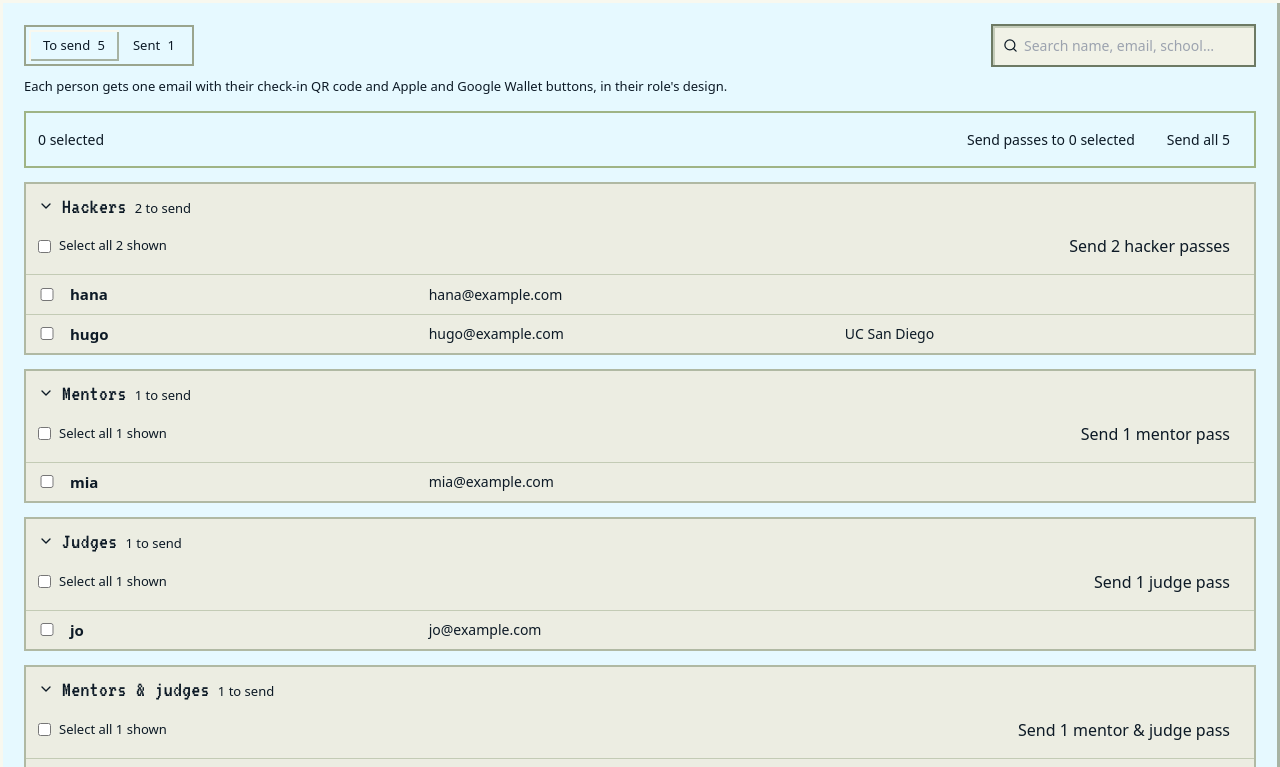
Test case: PassesPage › sends to everyone at once, still as a list, never the function's own pick
The image size is (1280, 767).
What coordinates should you click on to do the following:
click the button "Send all 5"
I would click on:
 (1198, 139)
Its box is [1155,122,1242,156].
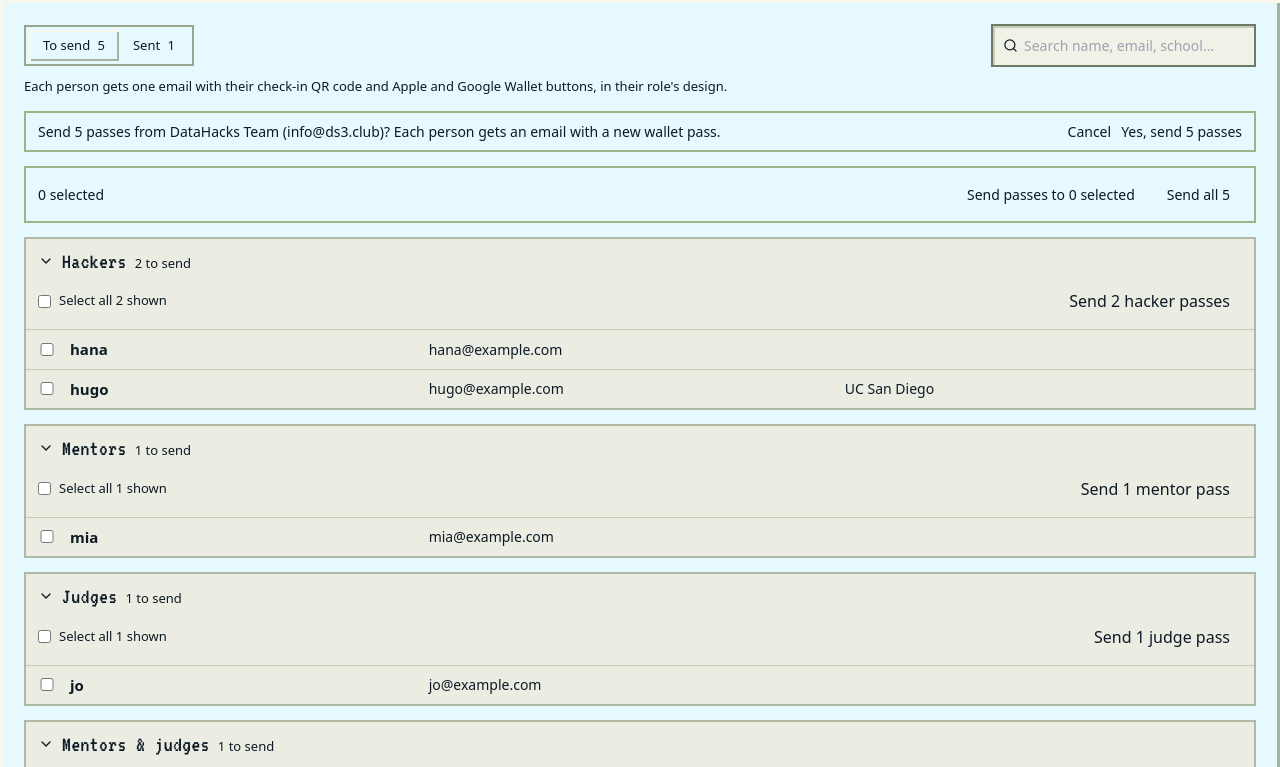
What coordinates should you click on to do the following:
click the button "Yes, send 5 passes"
I would click on:
 (1182, 131)
Its box is [1121,120,1242,142].
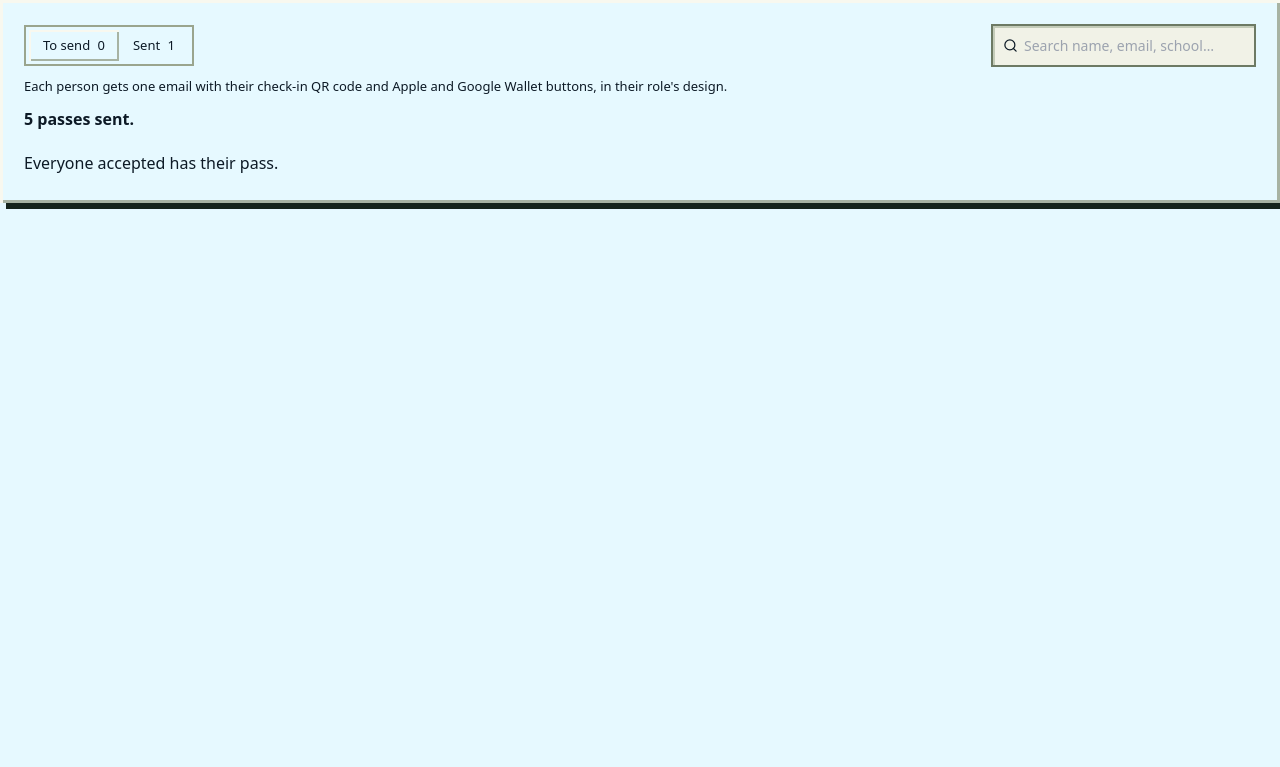
Now the text "5 passes sent." is shown, box [24,108,134,130]
Now the text "Everyone accepted has their pass." is shown, box [24,152,278,174]
